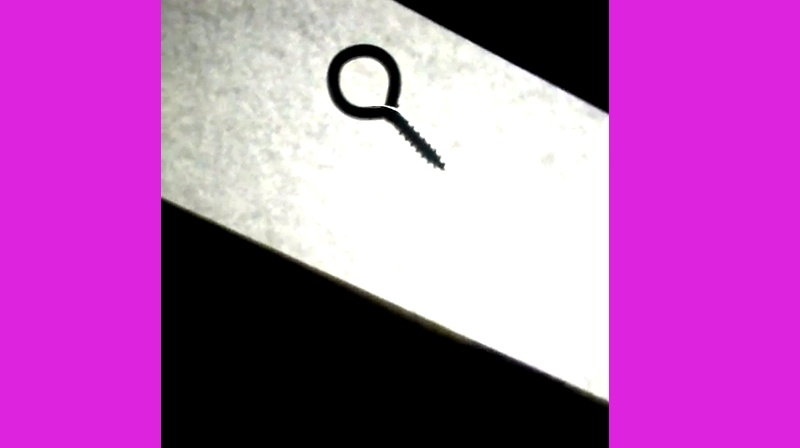O001: (323, 39, 445, 172)
